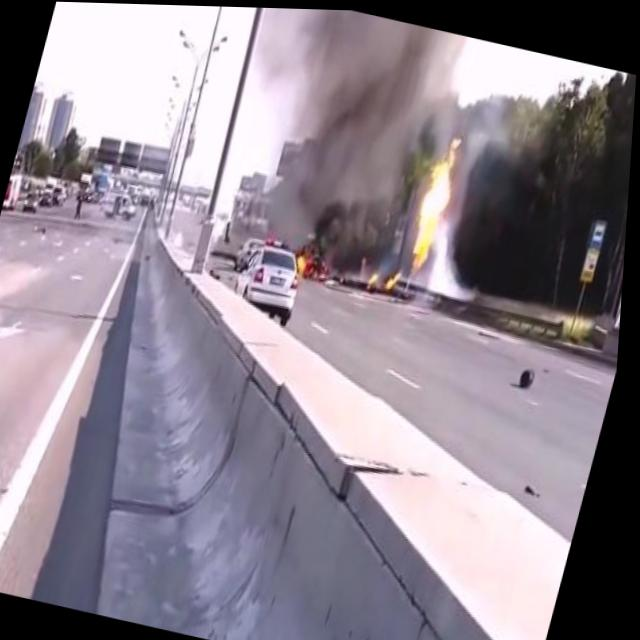fire: (406, 126, 470, 276), (295, 243, 338, 286), (369, 259, 414, 296)
